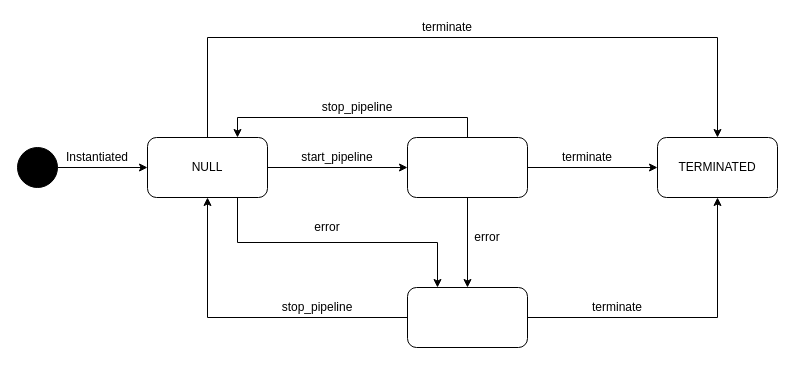
Some shapes in this 795 by 365 pixel diagram are drawn without their labels. The shapes that lost their labels are listed below. From the top down, each one's centre as x and y in pixels, then its label:
[467,167]: RUNNING
[467,317]: FAILED
